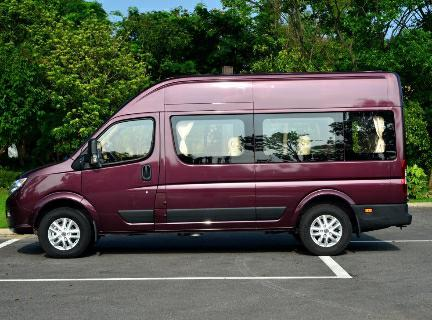东风-御风: (2, 65, 421, 256)
